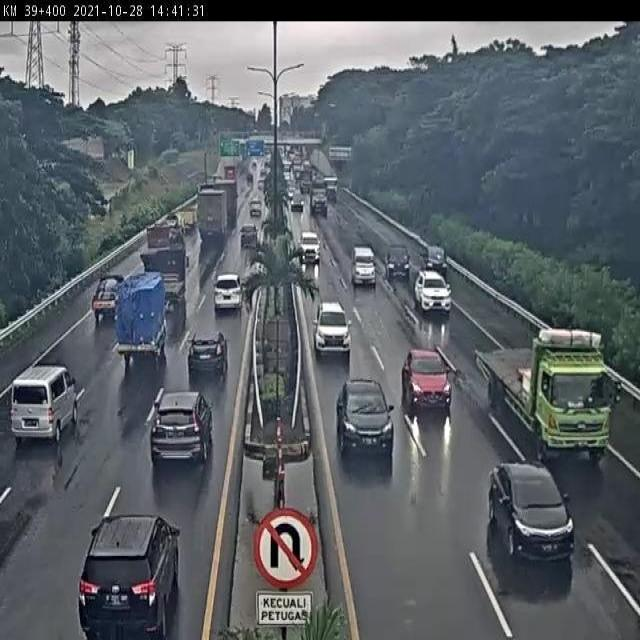Car: (76, 514, 181, 640), (488, 459, 575, 564), (151, 387, 216, 472), (335, 378, 395, 458), (401, 346, 452, 417), (185, 326, 229, 383), (312, 300, 352, 357), (216, 270, 244, 313)
Truck: (478, 323, 616, 467), (116, 271, 167, 367)
Van: (8, 358, 82, 451)
